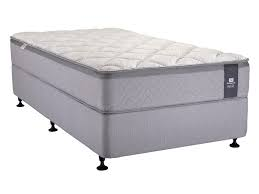bed-matress: (10, 29, 250, 114)
